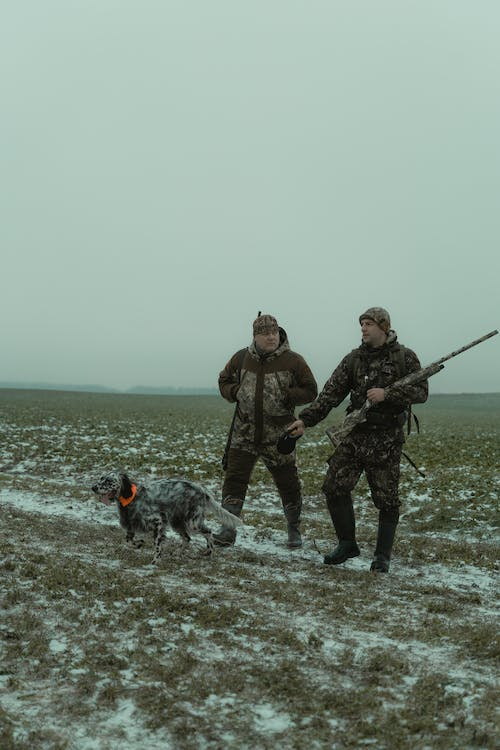gun: (321, 327, 500, 448), (219, 307, 264, 475)
